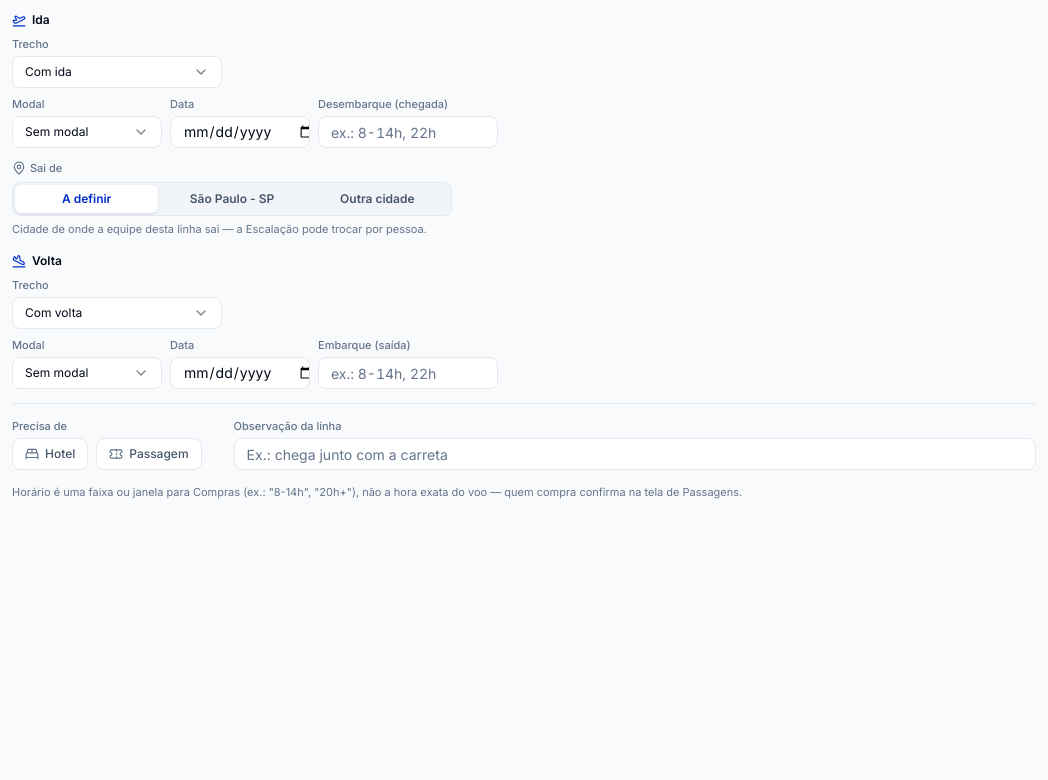
it: Logística sugerida — Sai de › cidade de 1 letra: o erro aparece ao sair do campo
The width and height of the screenshot is (1048, 780).
Click the radio button with test id "sug-sai-de-outra".
click(377, 199)  # box [306,185,449,213]
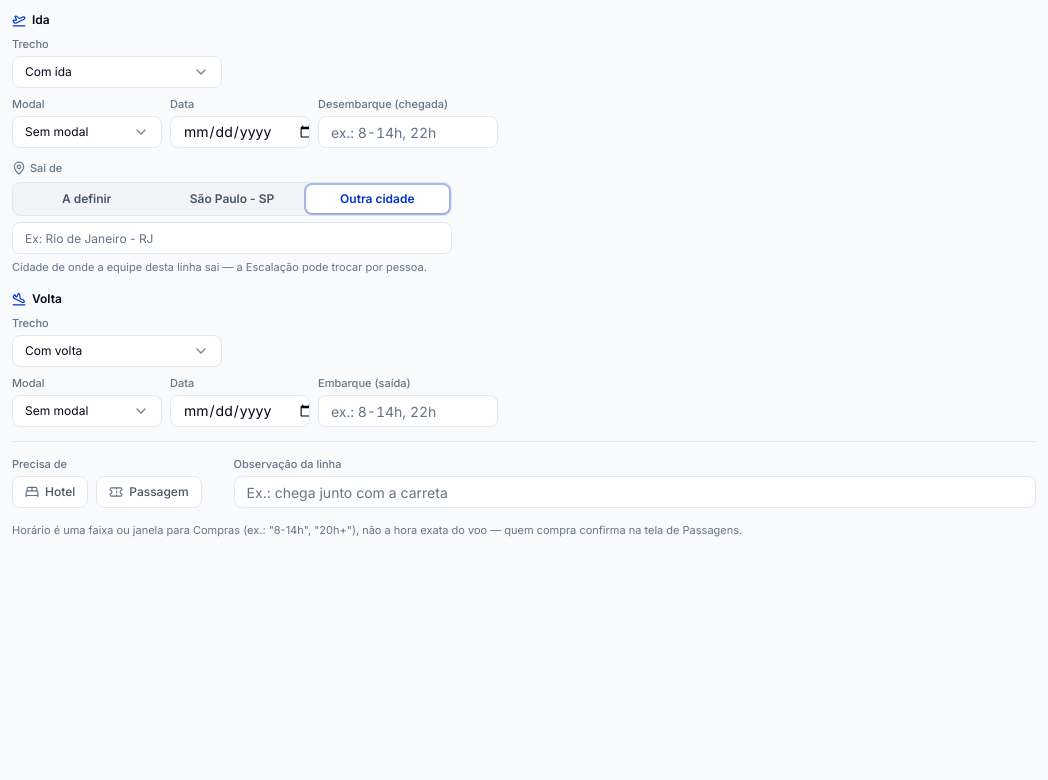
Type "R" into the field with test id "sug-sai-de-cidade".
click(232, 238); type("R")  # box [12,222,452,254]
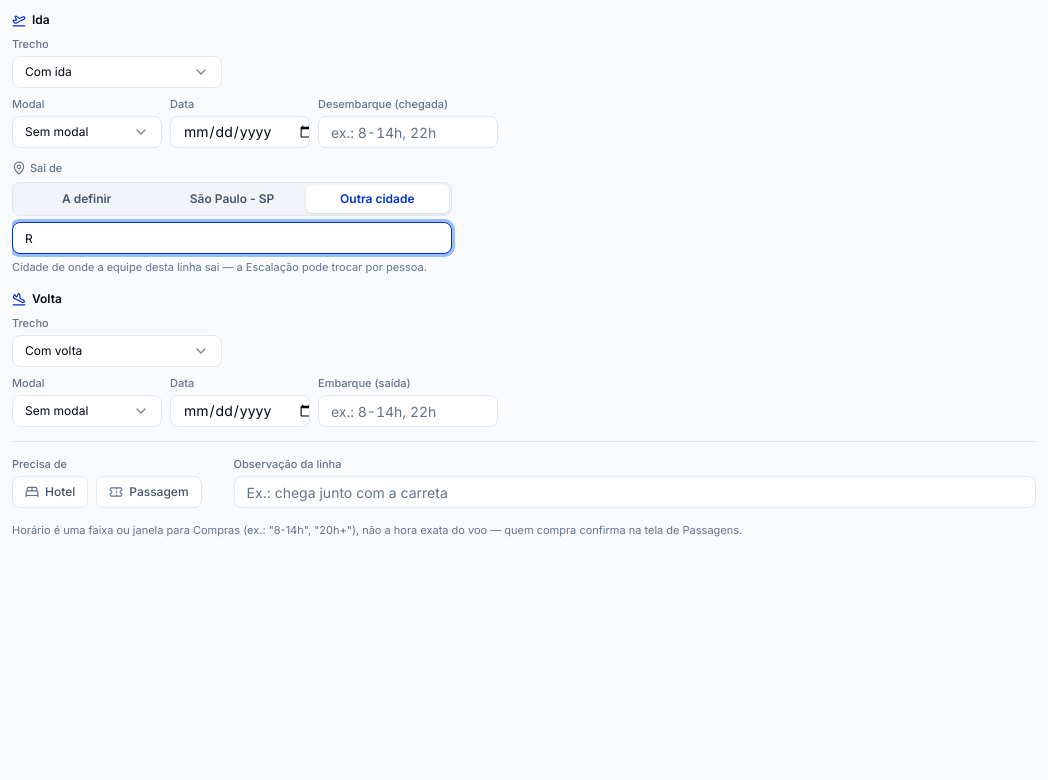
Press Tab
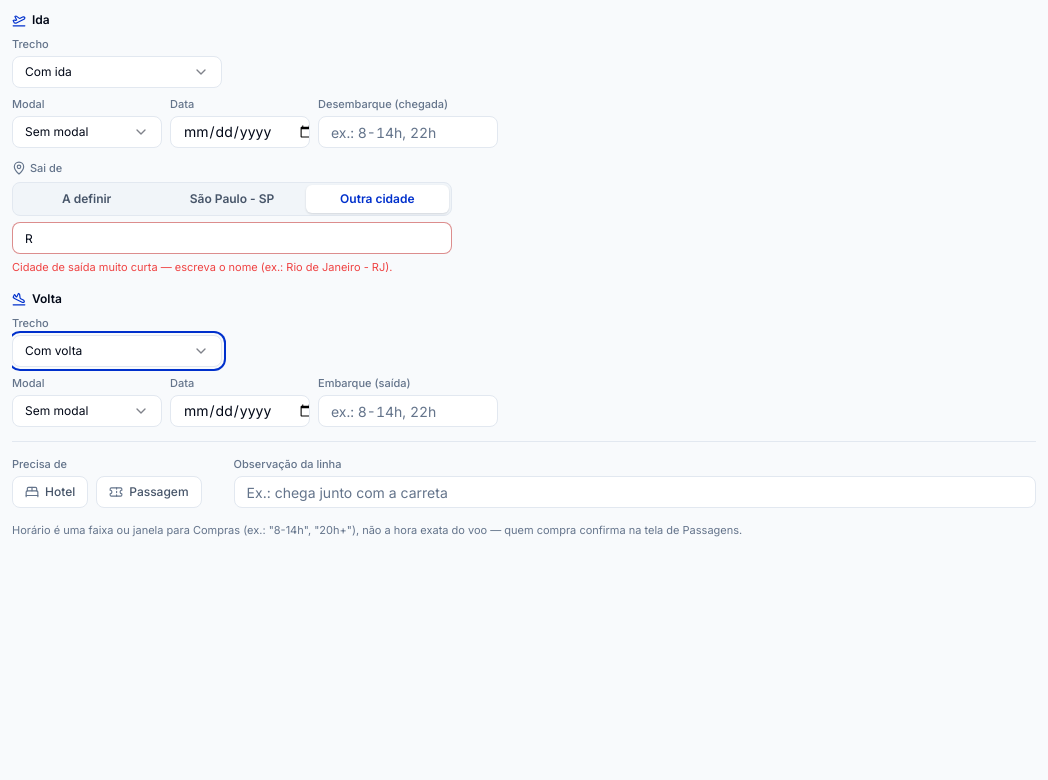
Now the text "muito curta" is shown, box [12,260,392,274]
